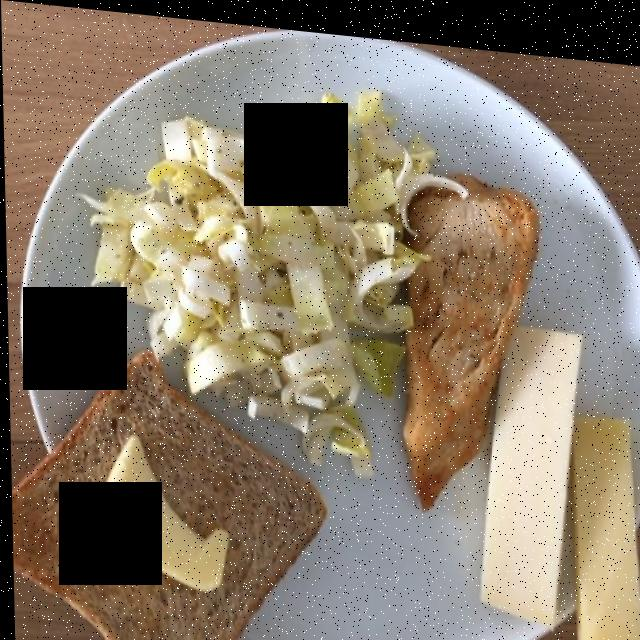bread-half-white: (402, 174, 544, 524)
bread-wholemeal-toast: (12, 364, 319, 640)
butter: (86, 433, 220, 598)
cheese: (466, 311, 637, 640)
witloof-chicory: (91, 94, 453, 452)
